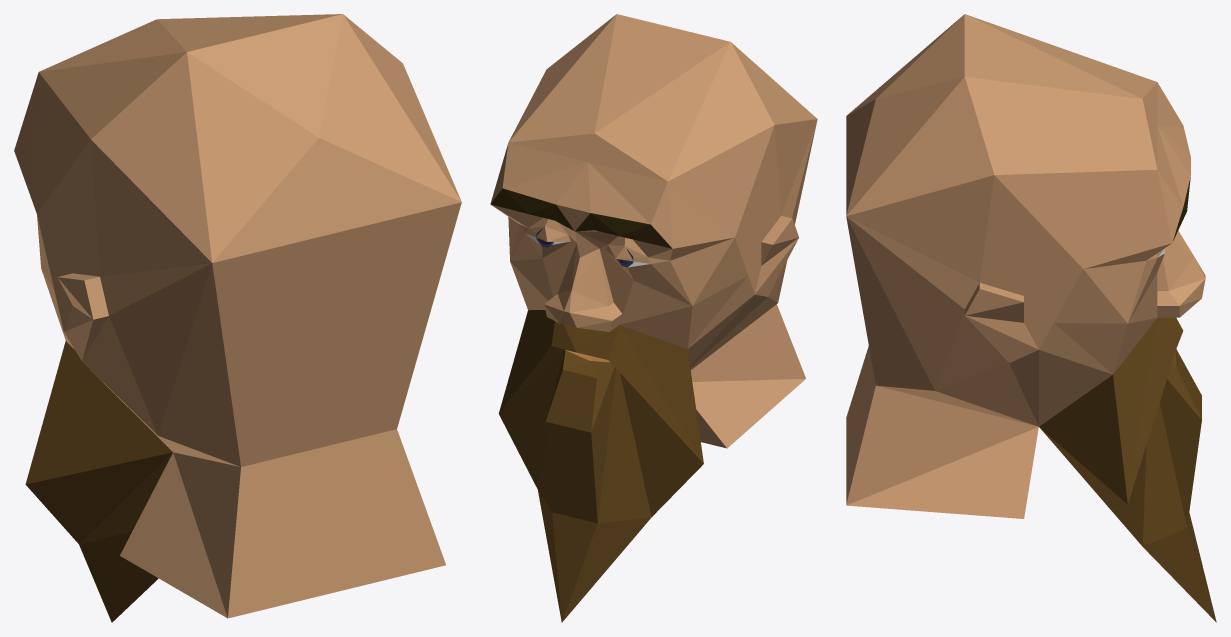
The model's file is npc_chat_drunken_dwarf_0.obj.
The picture shows the model from 3 angles, left to right: view 1: azimuth 30°, elevation 25°; view 2: azimuth 150°, elevation 25°; view 3: azimuth 270°, elevation 25°; orthographic projection. The views are drawn at different scales.
Size of the model in its own units: 0.6875 by 1.34 by 0.7812.
